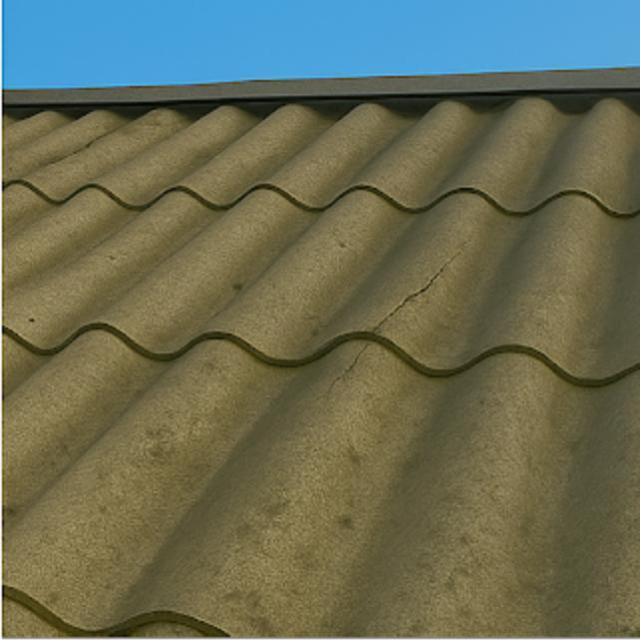fissure: (316, 247, 467, 397)
